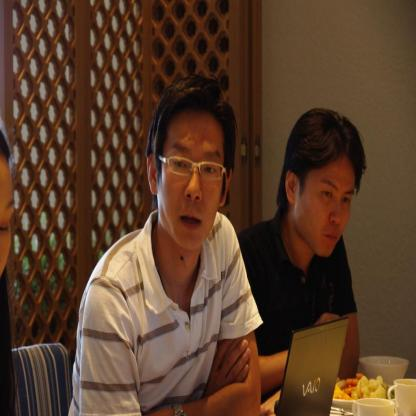board: (274, 310, 356, 414)
